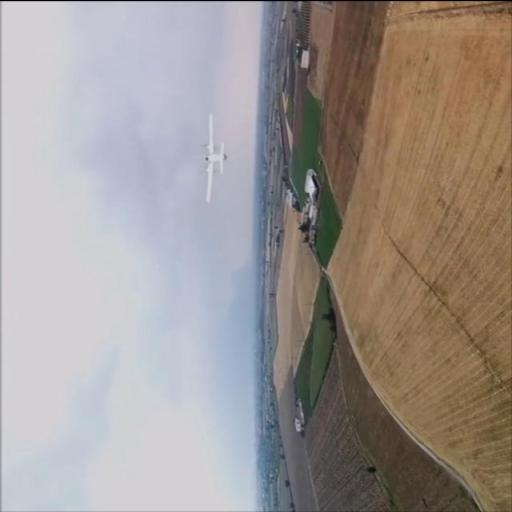uav: (202, 112, 228, 204)
